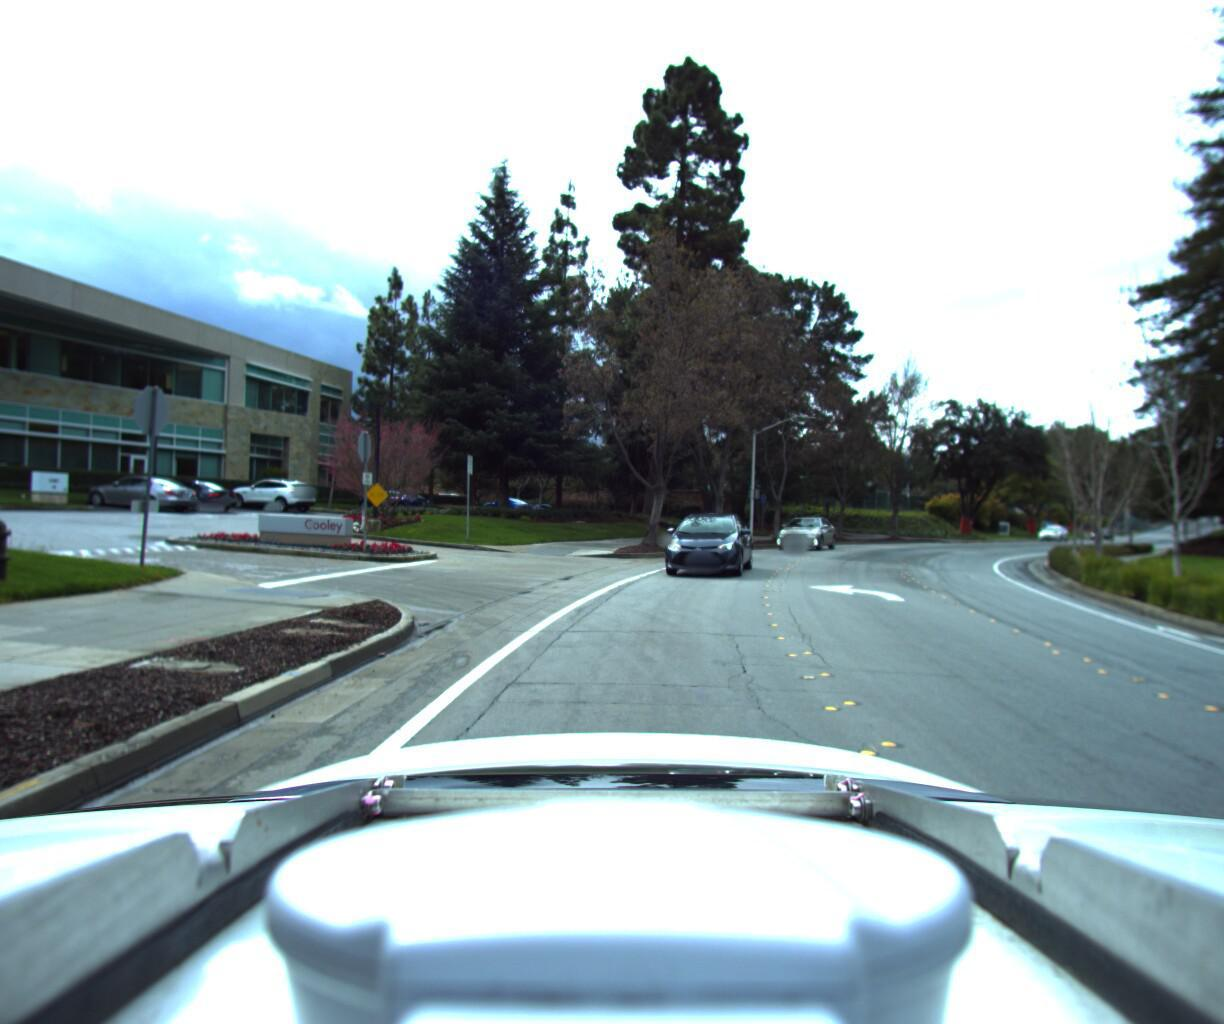car: (649, 506, 752, 580), (769, 508, 833, 547), (1033, 518, 1067, 539)
